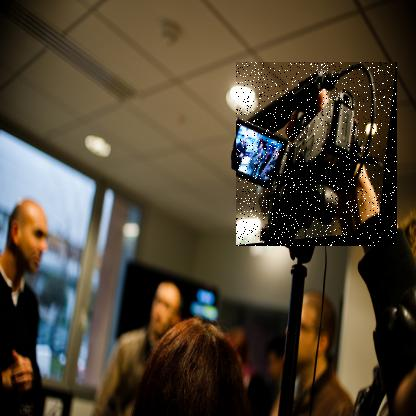Camera: (237, 63, 399, 248)
